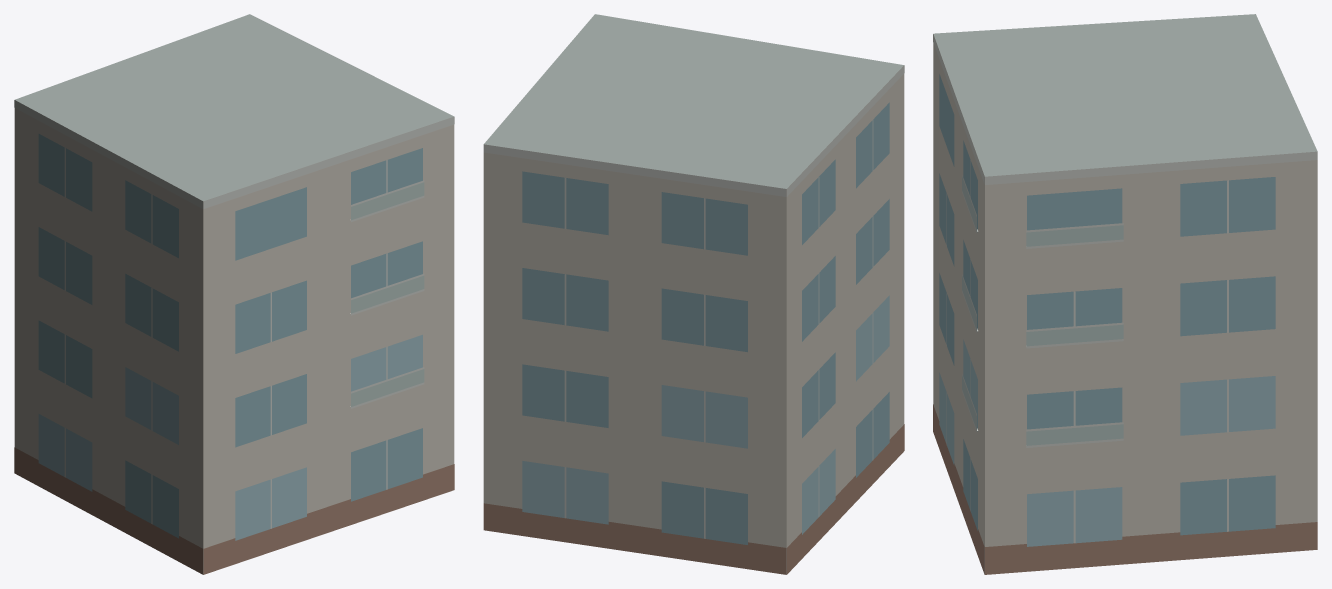
The model's file is survey-upis-32561036.glb.
3 views of the same model, side by side, from view 1: azimuth 30°, elevation 25°; view 2: azimuth 150°, elevation 25°; view 3: azimuth 270°, elevation 25° (orthographic). The views are drawn at different scales.
Parts seen in each view (by area): view 1: survey-upis-32561036.tmp; view 2: survey-upis-32561036.tmp; view 3: survey-upis-32561036.tmp.
Boxes of the visible parts, x1,y1,x2,y2 form: survey-upis-32561036.tmp: (14, 14, 454, 574); survey-upis-32561036.tmp: (483, 14, 904, 574); survey-upis-32561036.tmp: (933, 14, 1317, 574).
Bounding box in the file's own units: 10.14 × 11.56 × 10.13.
